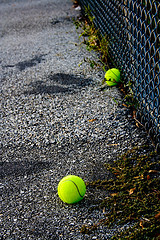tennis ball: (56, 173, 86, 204), (103, 67, 121, 87)
